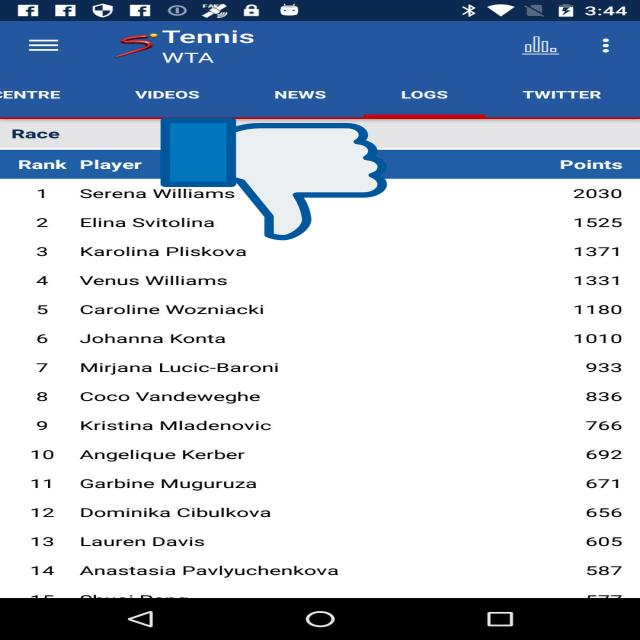obstruction: (161, 115, 387, 243)
